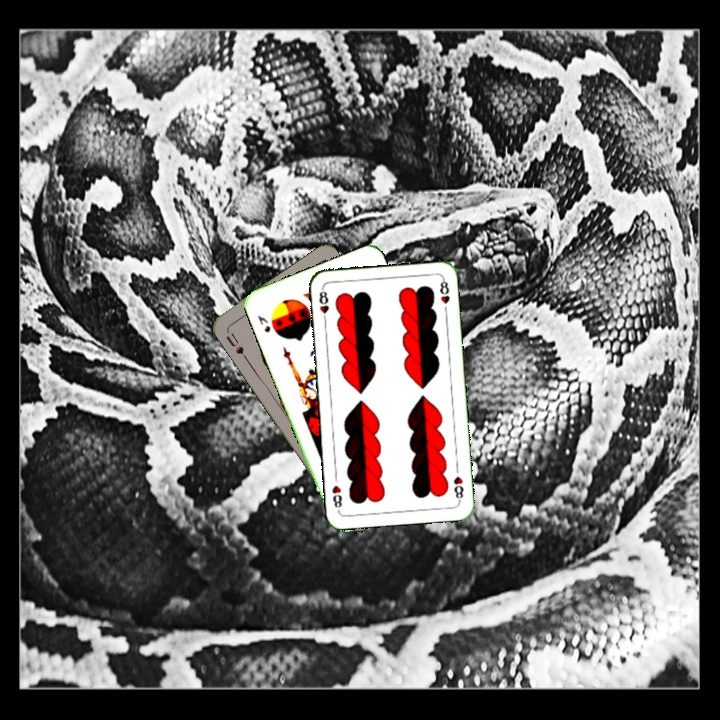H8: (315, 284, 331, 325), (450, 472, 466, 504)
SK: (253, 311, 273, 335)
SU: (222, 326, 250, 362)
